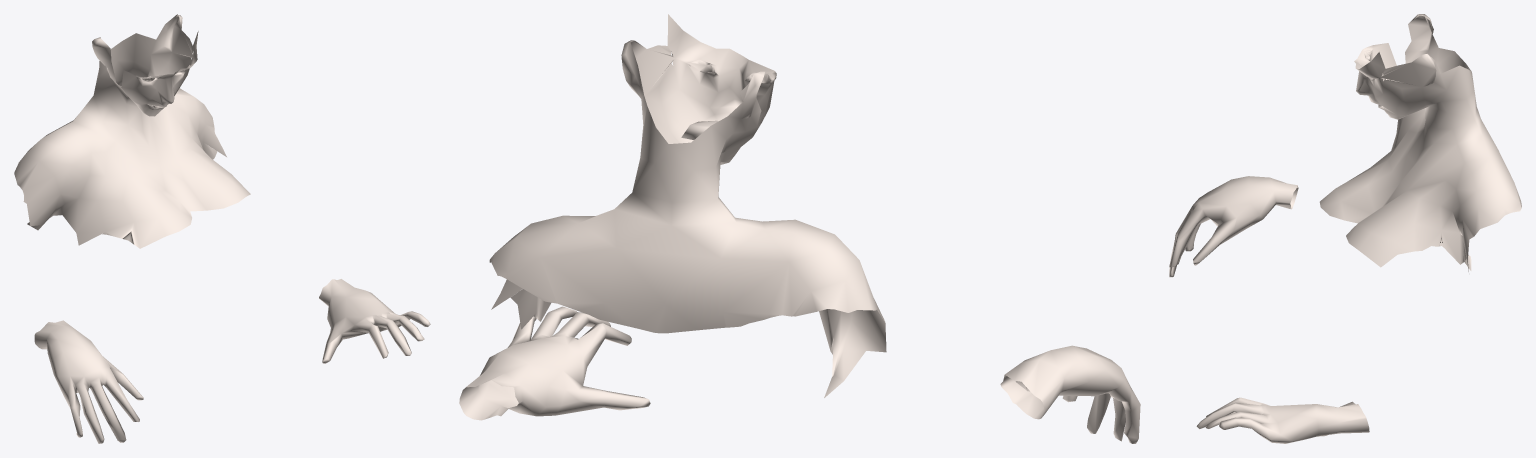
Rendered from skin.obj.
3 views of the same model, side by side, from view 1: azimuth 30°, elevation 25°; view 2: azimuth 150°, elevation 25°; view 3: azimuth 270°, elevation 25° (orthographic). The views are drawn at different scales.
Visible parts, largest first — view 1: ____01; view 2: ____01; view 3: ____01.
Boxes of the visible parts, box(x1,y1,x2,y2) form: ____01: box(14, 14, 430, 443); ____01: box(459, 14, 1140, 443); ____01: box(1169, 14, 1521, 443).
Size of the model in its own units: 9.21 by 7.3 by 7.09.
Materials: 1 (1 with a texture image).
